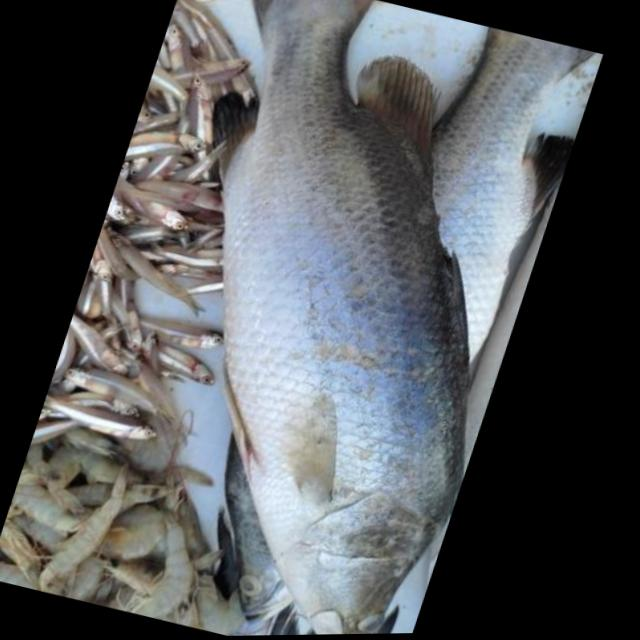Seabass: (17, 0, 608, 639)
